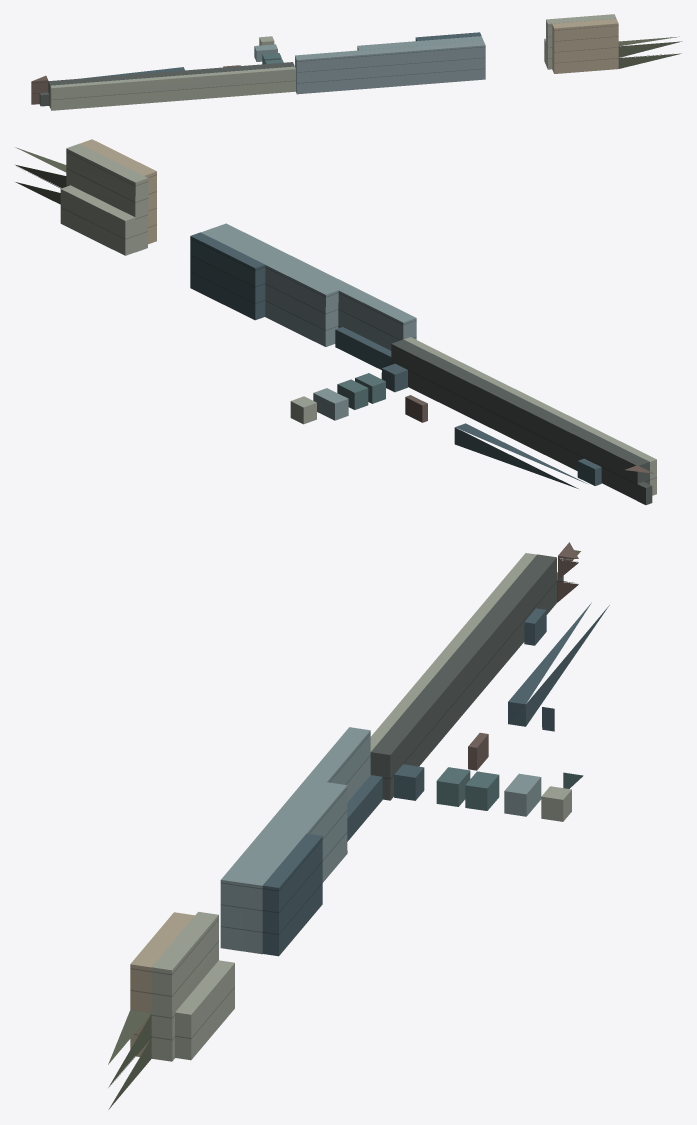
File: terminal-73---20_17.glb
3 renders of one model, top to bottom at view 1: azimuth 30°, elevation 25°; view 2: azimuth 150°, elevation 25°; view 3: azimuth 270°, elevation 25°, orthographic. The views are drawn at different scales.
Visible parts, largest first — view 1: measured-industrial; view 2: measured-industrial; view 3: measured-industrial.
Part boxes in pixels (x1,y1,x2,y2): measured-industrial: (31,14,682,110); measured-industrial: (15,139,656,504); measured-industrial: (108,542,609,1109).
Size of the model in its own units: 146 by 11.62 by 60.1.
